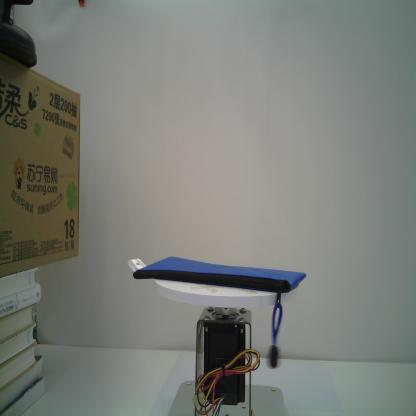Stationery: (122, 253, 308, 369)
